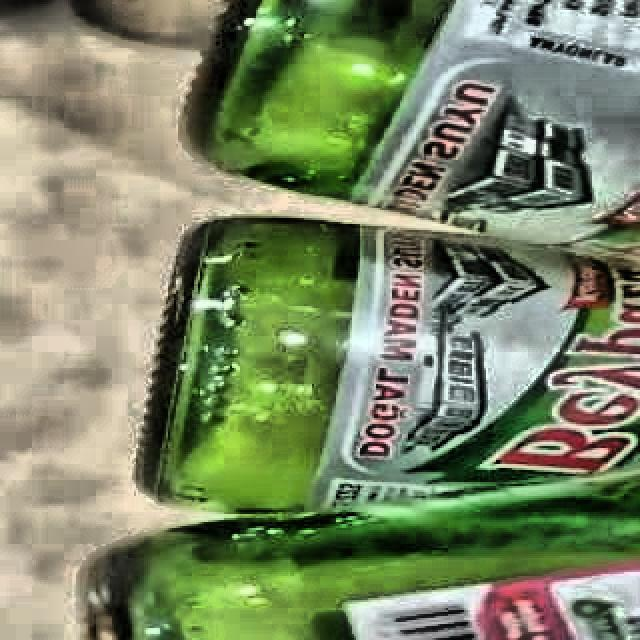glass: (83, 0, 640, 640)
